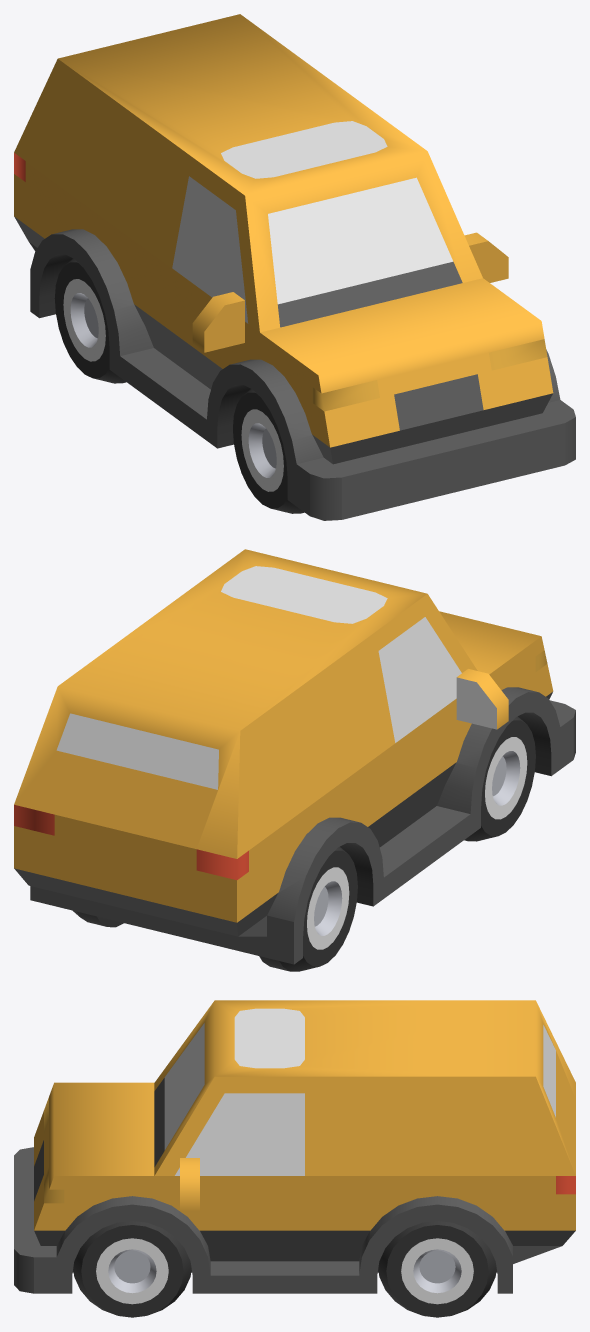
File: suvLuxury.fbx
3 views of the same model, one above another, from view 1: azimuth 30°, elevation 25°; view 2: azimuth 150°, elevation 25°; view 3: azimuth 270°, elevation 25° (orthographic). The views are drawn at different scales.
Parts seen in each view (by area): view 1: body, wheel_backRight, wheel_frontRight; view 2: body, wheel_backRight, wheel_frontRight; view 3: body, wheel_frontLeft, wheel_backLeft.
Boxes of the visible parts, <box> form: body: <box>14,14,575,520</box>; wheel_backRight: <box>54,258,126,383</box>; wheel_frontRight: <box>233,389,304,513</box>; body: <box>14,549,575,964</box>; wheel_backRight: <box>259,846,357,971</box>; wheel_frontRight: <box>464,716,535,841</box>; body: <box>14,1000,575,1293</box>; wheel_frontLeft: <box>73,1221,191,1317</box>; wheel_backLeft: <box>378,1221,496,1317</box>.
Size of the model in its own units: 15 by 13 by 28.
